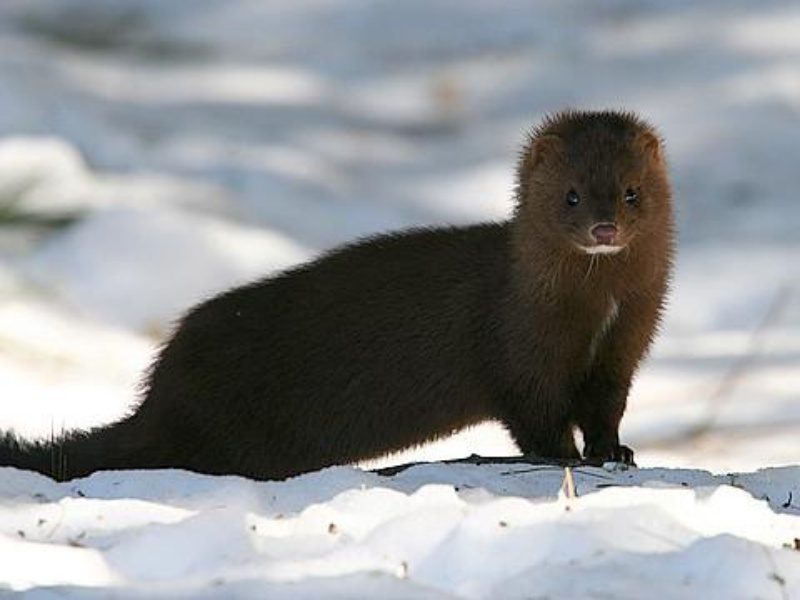minkish: (5, 108, 678, 482)
